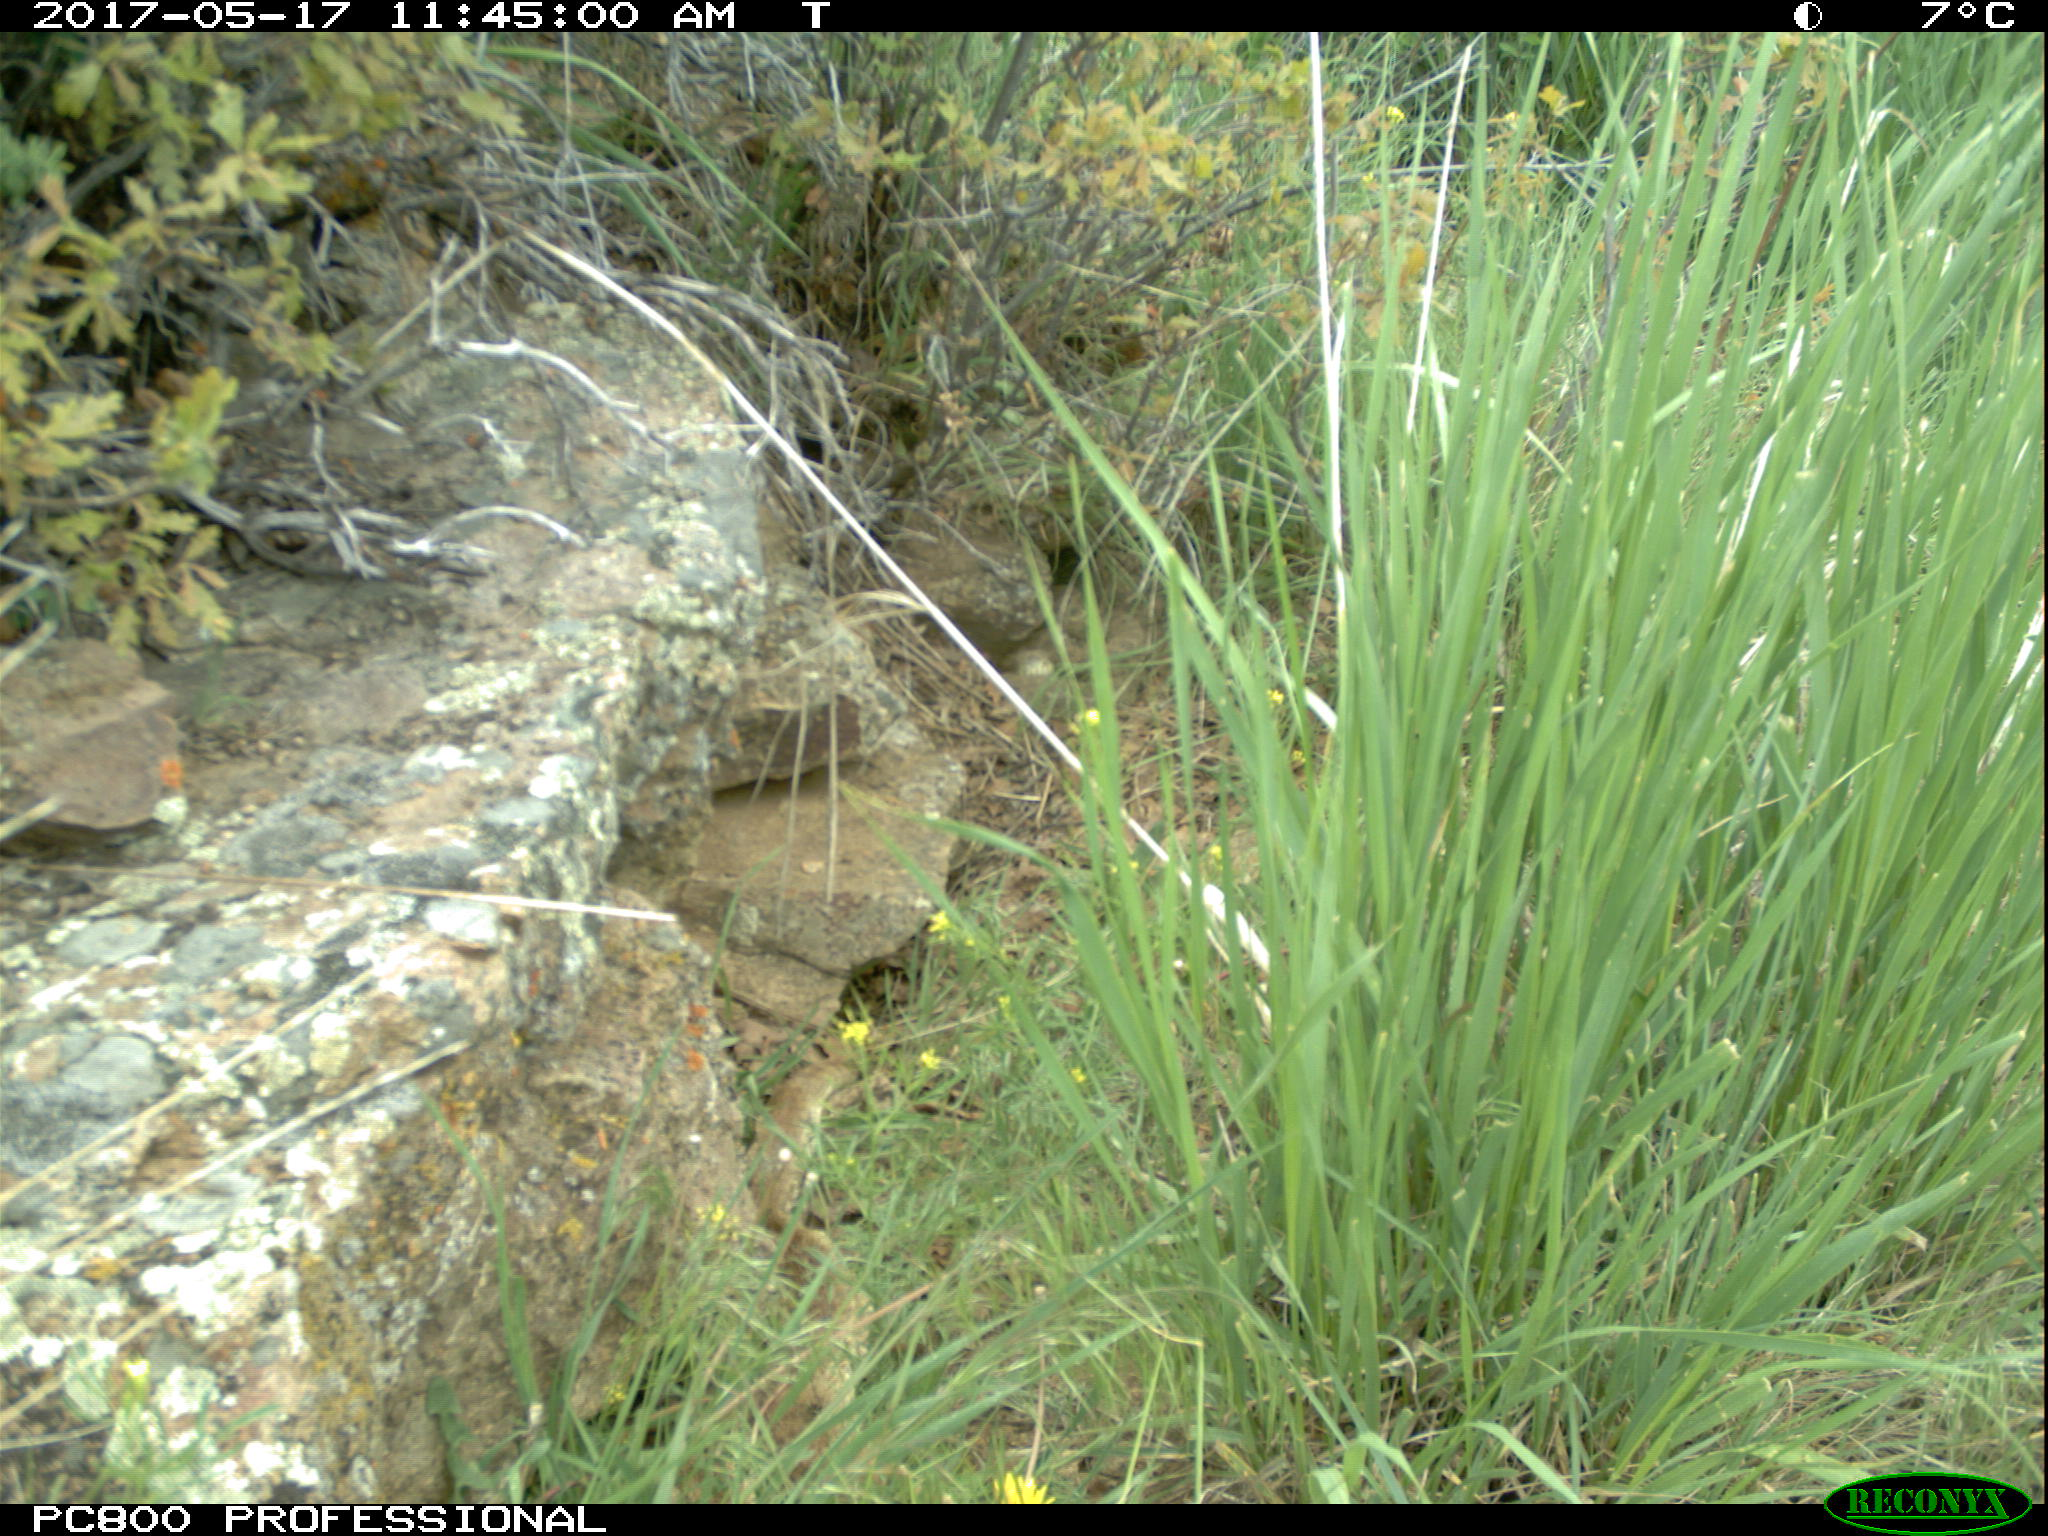snake: (747, 1062, 874, 1447), (1014, 584, 1150, 716)
